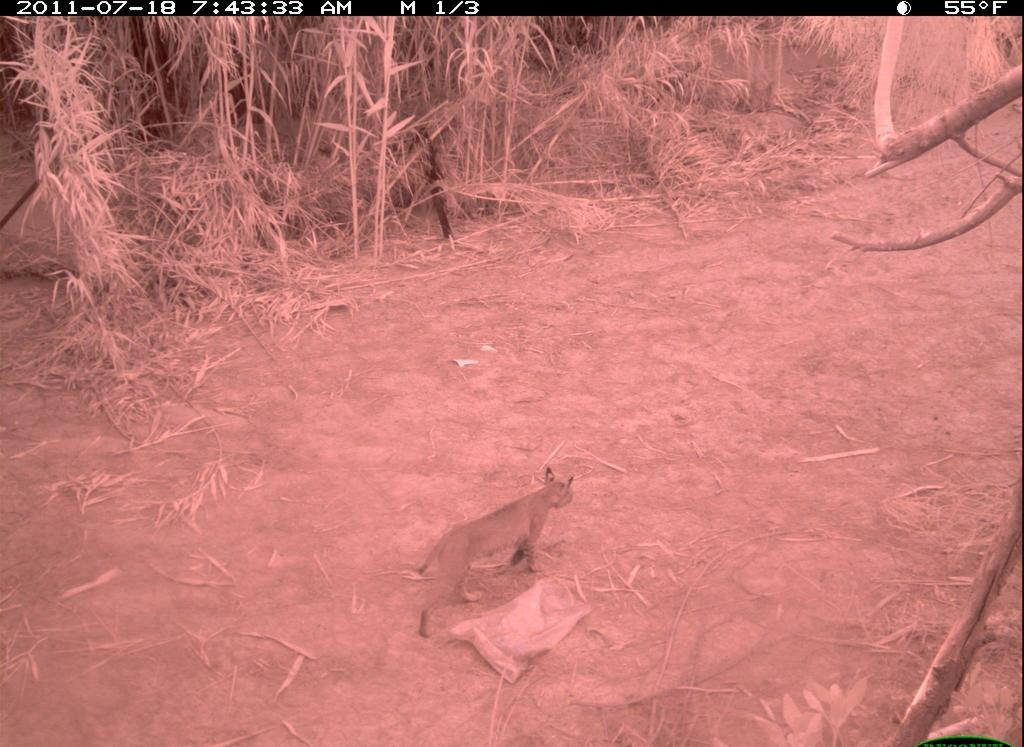bobcat: (409, 456, 591, 648)
